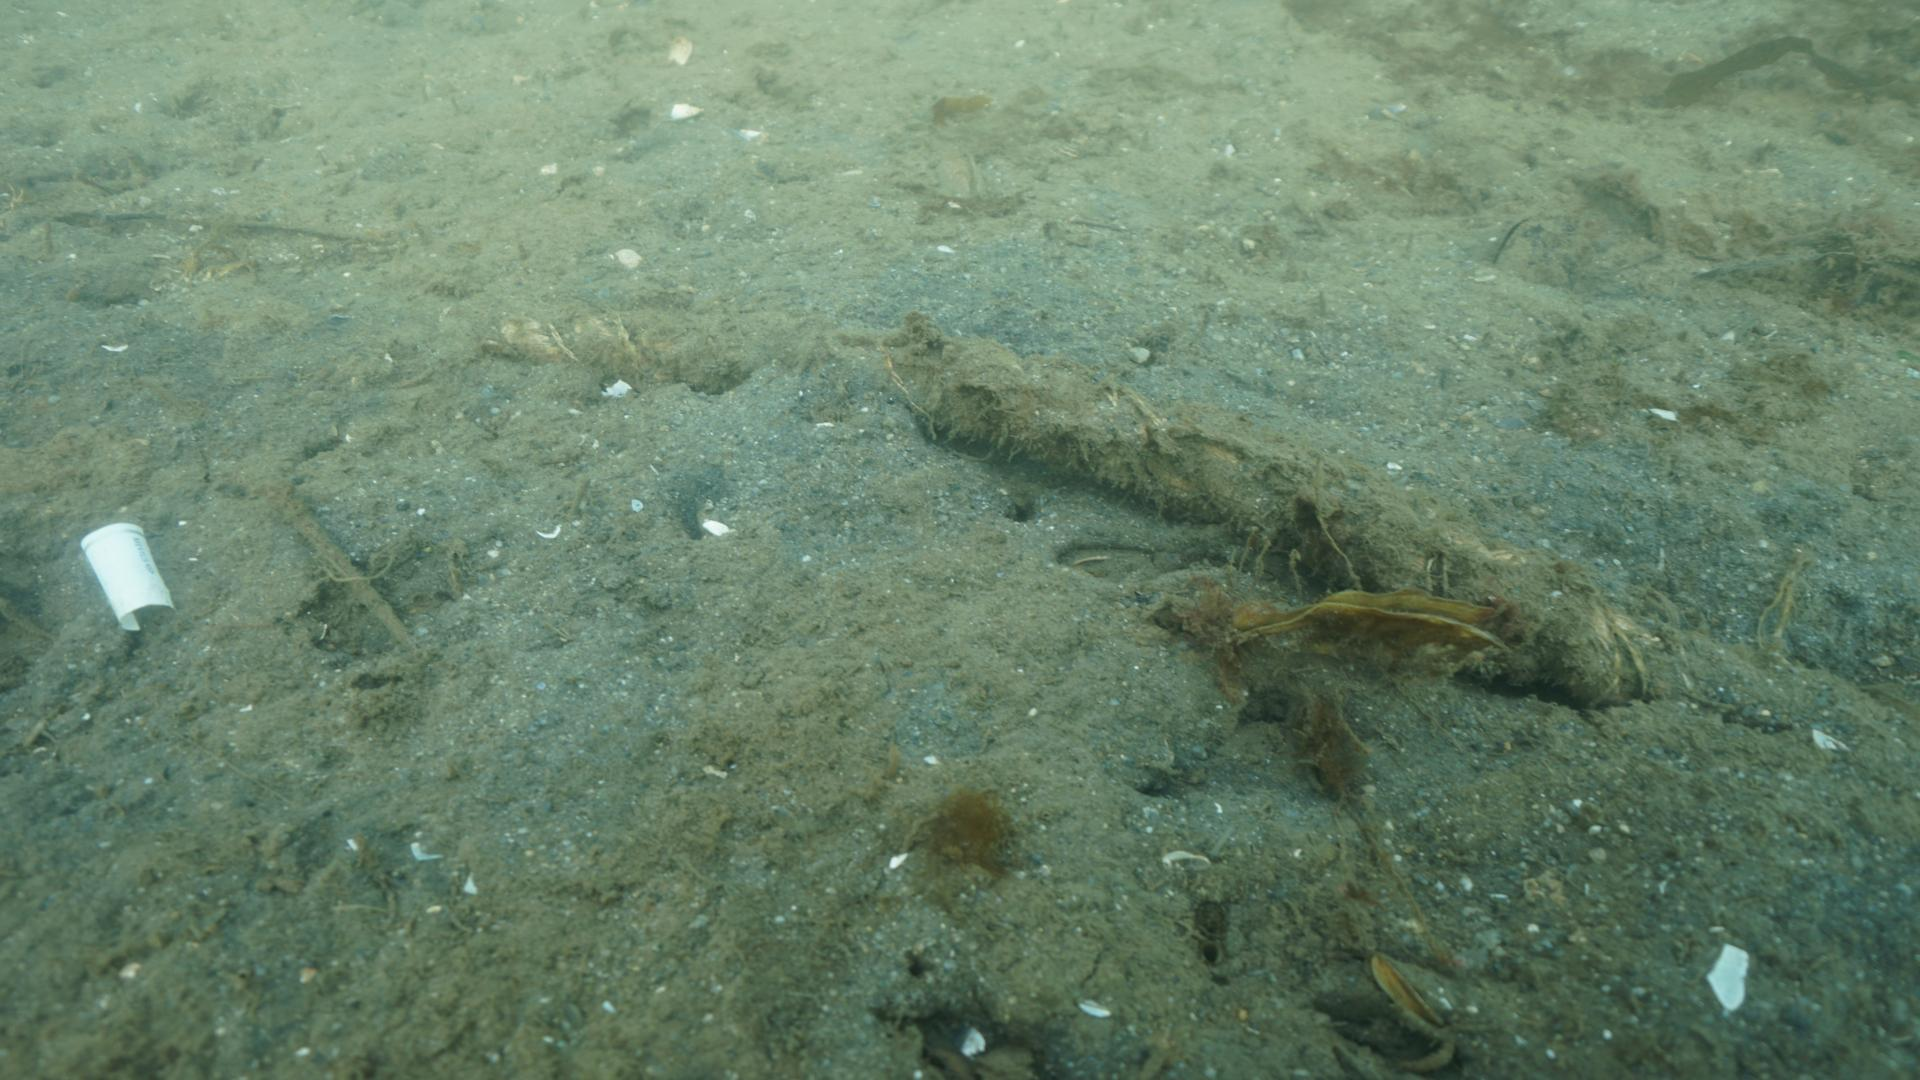wood: (483, 318, 1920, 752)
